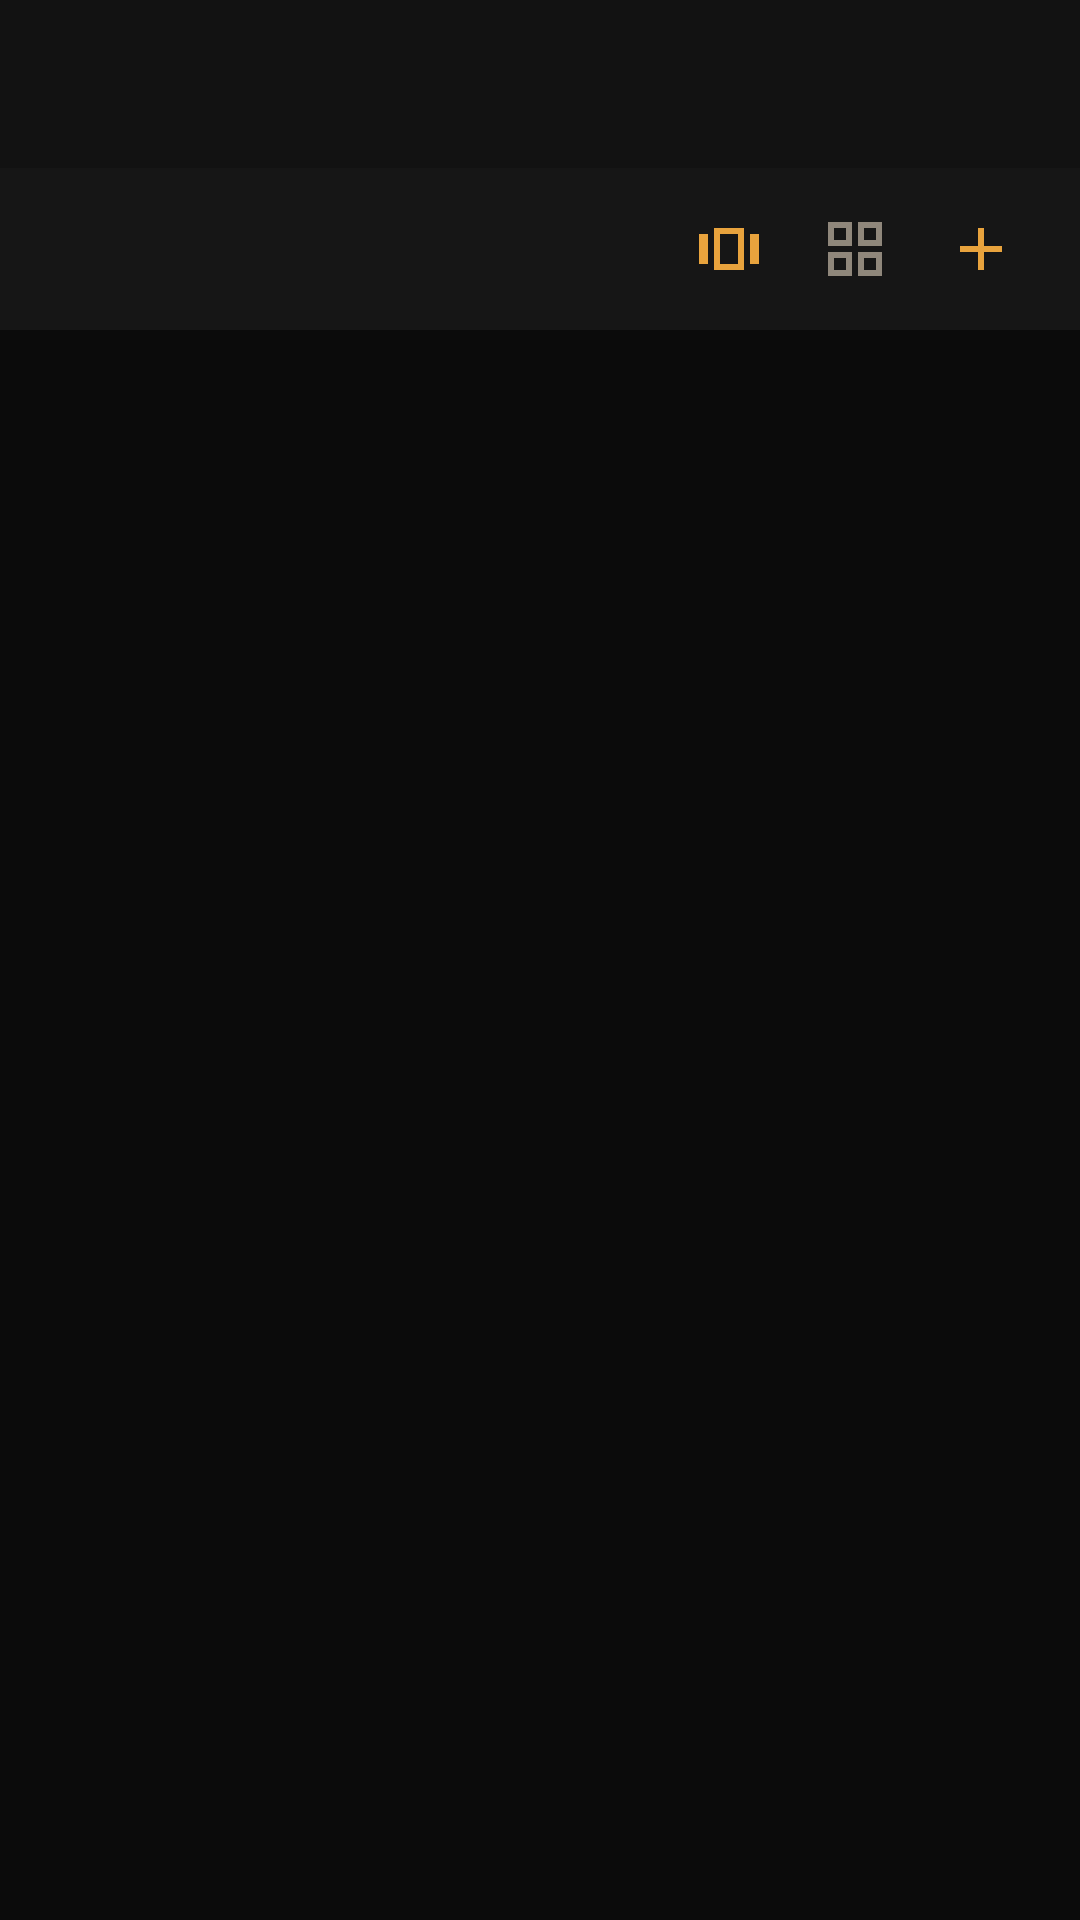

Icon bounding boxes for this 1080px x 1920px phone screenshot, format (x1, y1, x2, y2):
Add Photo or Video: (960, 228, 1002, 270)
Carousel View: (699, 228, 759, 270)
Grid View: (828, 222, 882, 276)
